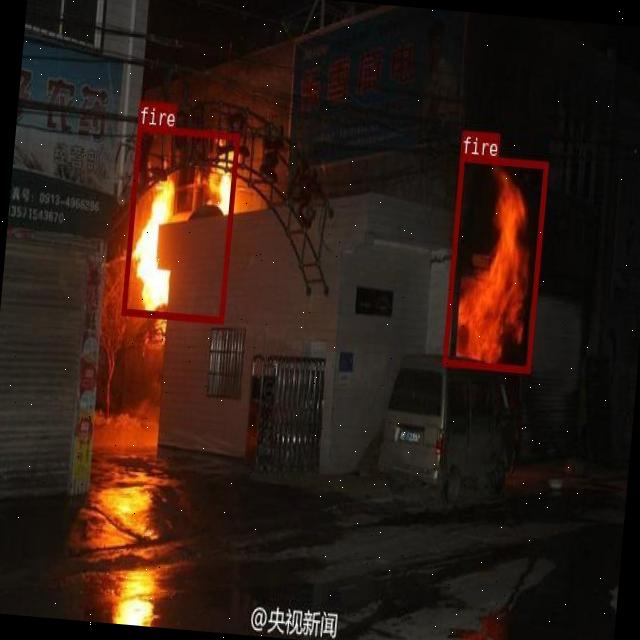fire: (120, 125, 239, 322), (442, 154, 546, 372)
